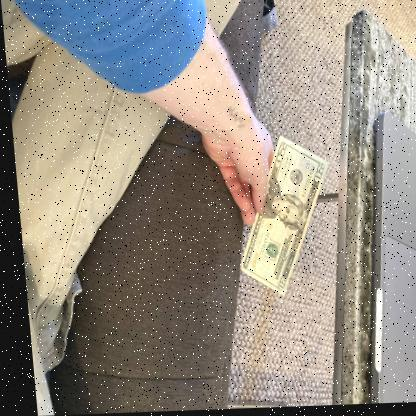dollar_front: (232, 137, 324, 301)
